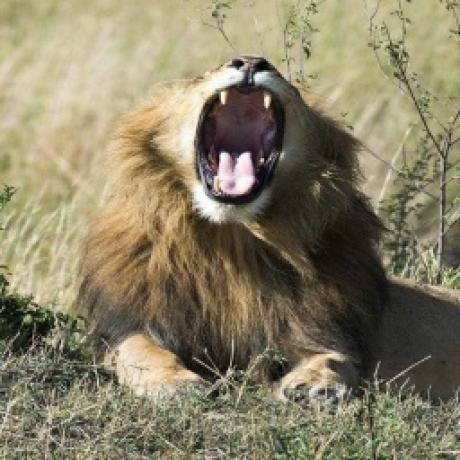Lion: (77, 50, 460, 412)
